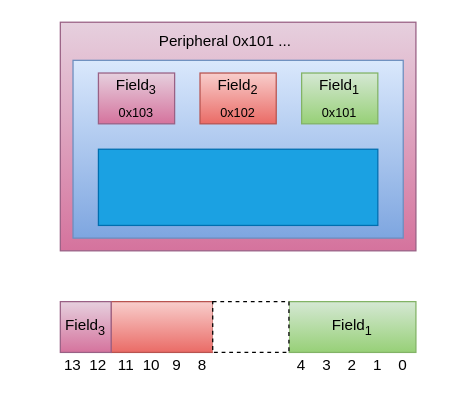
Image size: 450x400. Some labels were removed from this diagram. The centre of each missing label's shape, as x and y in pixels:
"Csr 1 0x101" goes at point 237,186.
"Field 2" goes at point 161,326.
